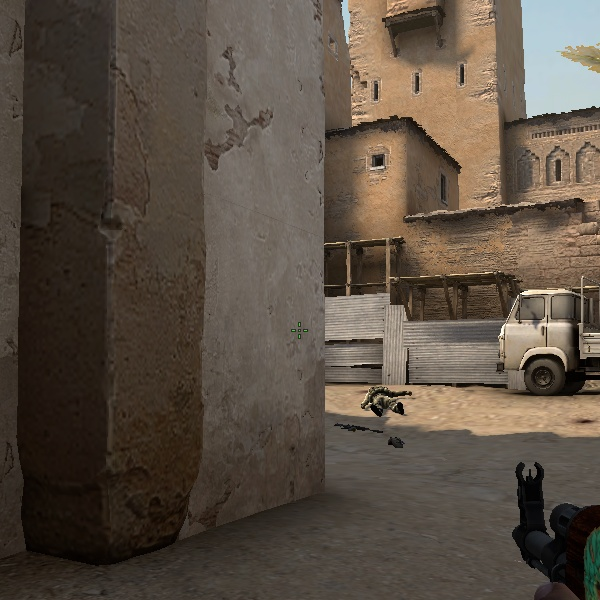ct_body: (367, 384, 407, 451)
